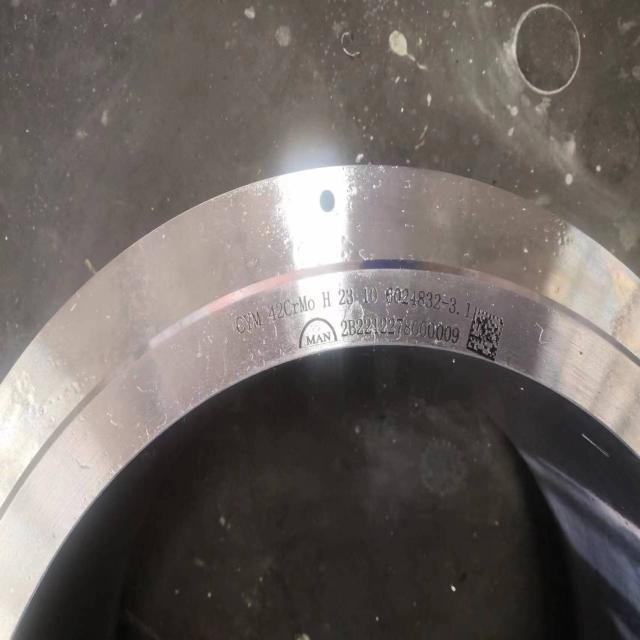dmc: (466, 307, 504, 362)
